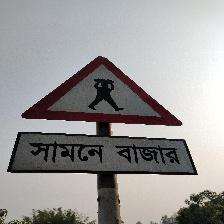Market-in-front: (9, 56, 200, 175)
